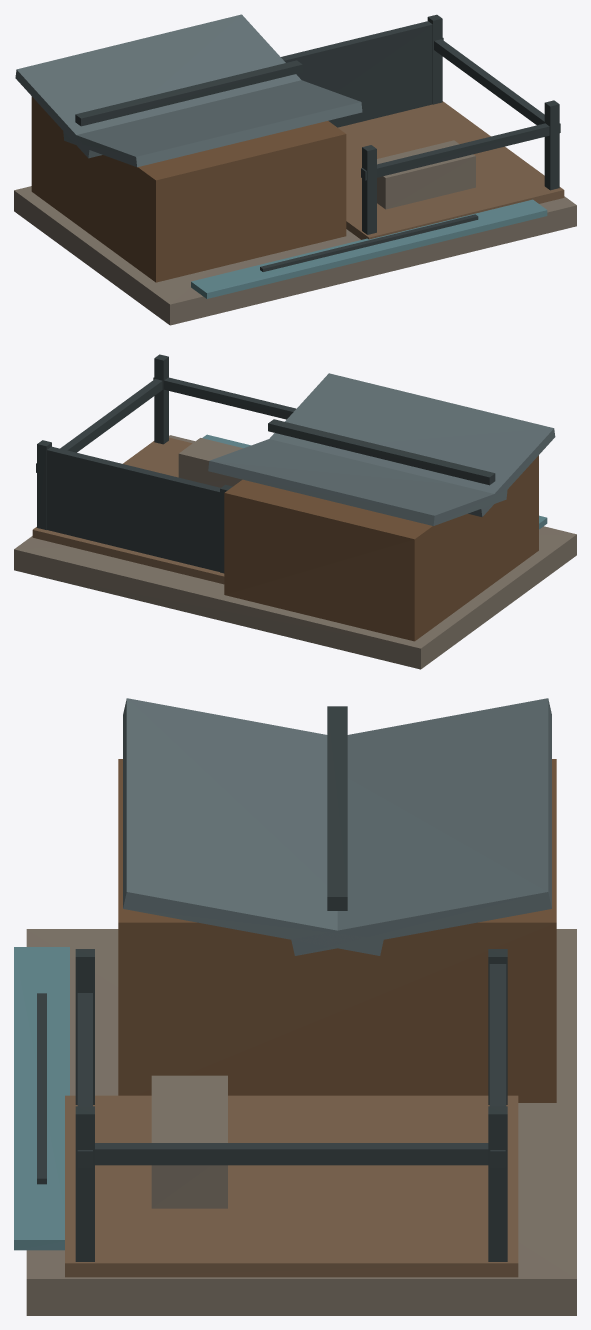
Rendered from Pigsty.glb.
3 renders of one model, top to bottom at view 1: azimuth 30°, elevation 25°; view 2: azimuth 150°, elevation 25°; view 3: azimuth 270°, elevation 25°, orthographic. The views are drawn at different scales.
Visible parts, largest first — view 1: wind-pump-static-pigsty-weathered-timber, wind-pump-static-pigsty-galvanized-roof, wind-pump-static-pigsty-dark-iron, wind-pump-static-pigsty-stone-curb, wind-pump-static-pigsty-packed-mud, wind-pump-static-pigsty-drainage-blue-gray; view 2: wind-pump-static-pigsty-weathered-timber, wind-pump-static-pigsty-galvanized-roof, wind-pump-static-pigsty-dark-iron, wind-pump-static-pigsty-stone-curb, wind-pump-static-pigsty-packed-mud; view 3: wind-pump-static-pigsty-galvanized-roof, wind-pump-static-pigsty-weathered-timber, wind-pump-static-pigsty-packed-mud, wind-pump-static-pigsty-stone-curb, wind-pump-static-pigsty-dark-iron, wind-pump-static-pigsty-drainage-blue-gray.
Boxes of the visible parts, box(x1,y1,x2,y2) form: wind-pump-static-pigsty-weathered-timber: box(31, 96, 346, 282); wind-pump-static-pigsty-galvanized-roof: box(15, 14, 362, 167); wind-pump-static-pigsty-dark-iron: box(75, 14, 560, 271); wind-pump-static-pigsty-stone-curb: box(14, 140, 576, 325); wind-pump-static-pigsty-packed-mud: box(338, 101, 564, 239); wind-pump-static-pigsty-drainage-blue-gray: box(191, 199, 547, 298); wind-pump-static-pigsty-weathered-timber: box(224, 455, 538, 641); wind-pump-static-pigsty-galvanized-roof: box(208, 373, 555, 525); wind-pump-static-pigsty-dark-iron: box(36, 354, 495, 573); wind-pump-static-pigsty-stone-curb: box(14, 435, 576, 669); wind-pump-static-pigsty-packed-mud: box(32, 437, 224, 584); wind-pump-static-pigsty-galvanized-roof: box(123, 698, 551, 955); wind-pump-static-pigsty-weathered-timber: box(118, 759, 556, 1102); wind-pump-static-pigsty-packed-mud: box(65, 1095, 518, 1277); wind-pump-static-pigsty-stone-curb: box(26, 929, 576, 1315); wind-pump-static-pigsty-dark-iron: box(37, 706, 507, 1261); wind-pump-static-pigsty-drainage-blue-gray: box(14, 947, 69, 1250).
Bounding box in the file's own units: 3.29 × 1.14 × 2.21.
